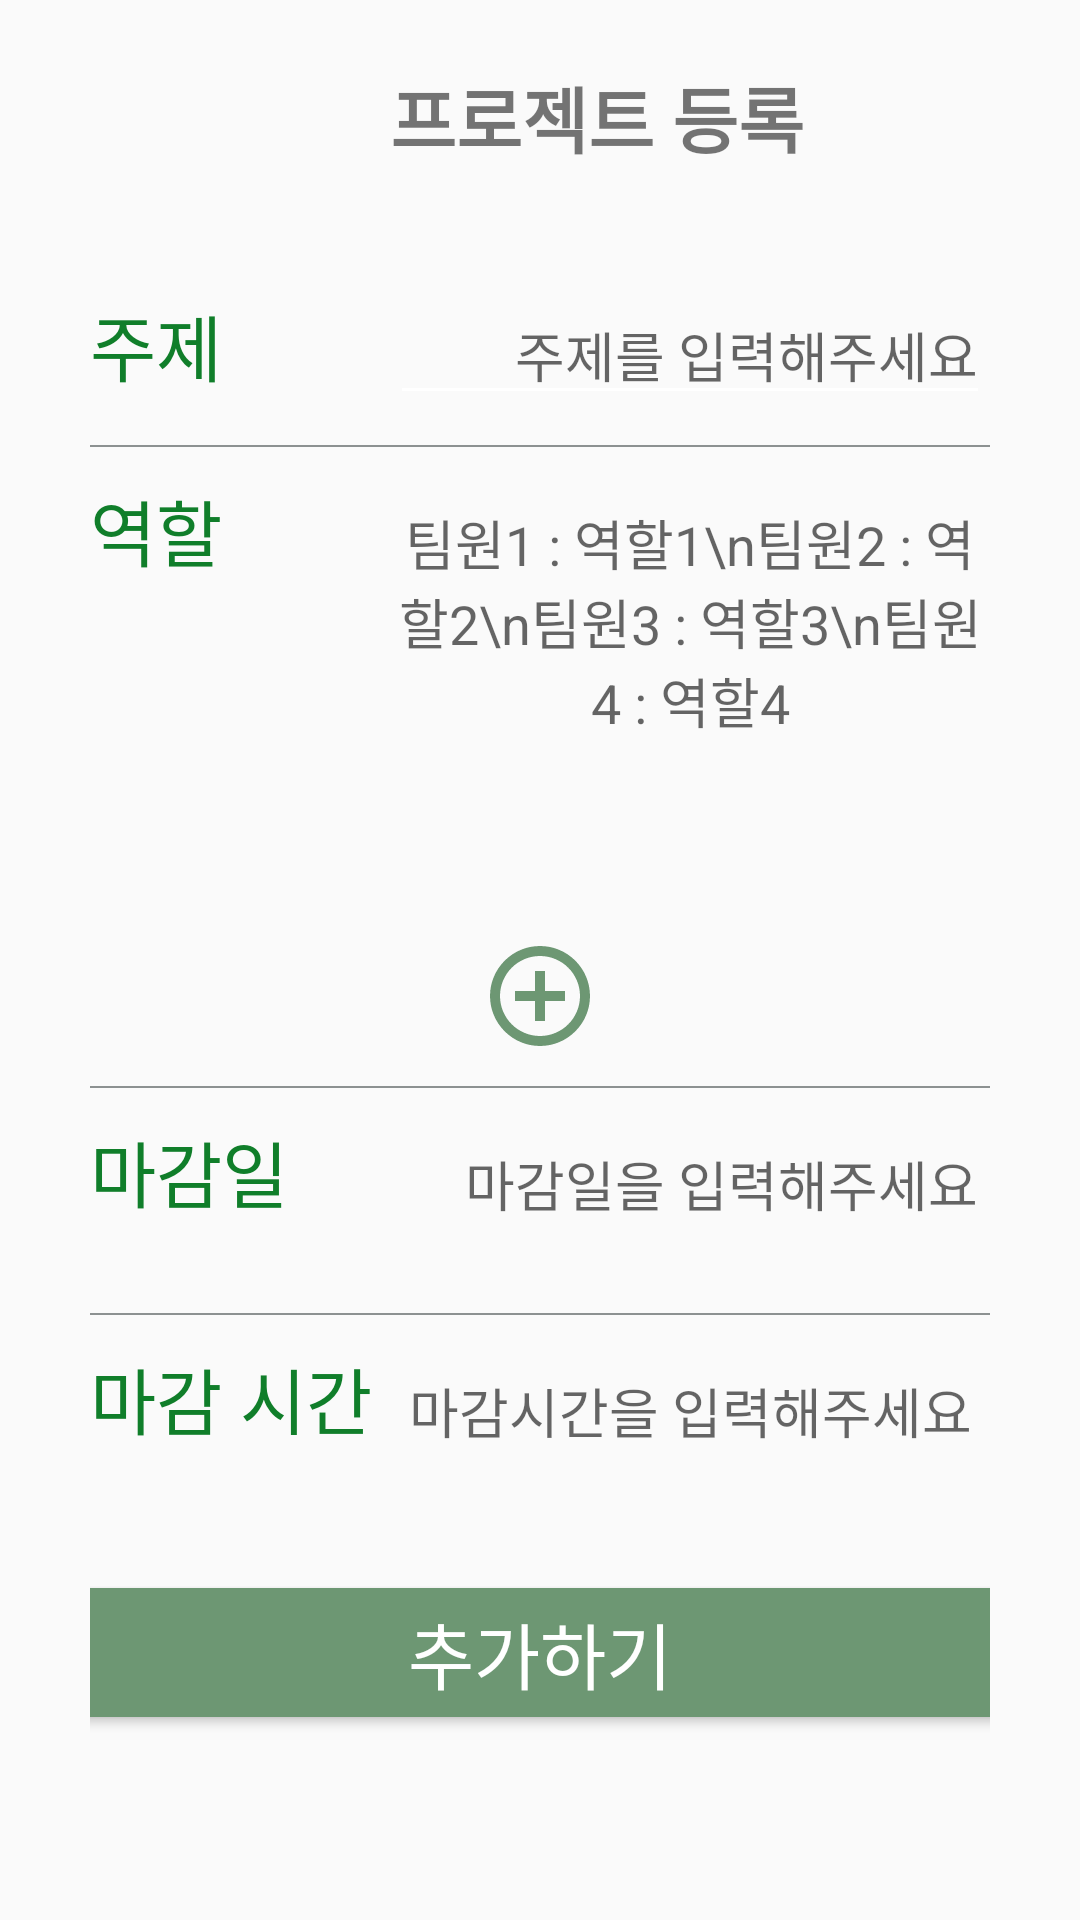

Named icons in this screenshot (1080w x 1920h) and their centers, point (x, y):
control point: point (540, 996)
